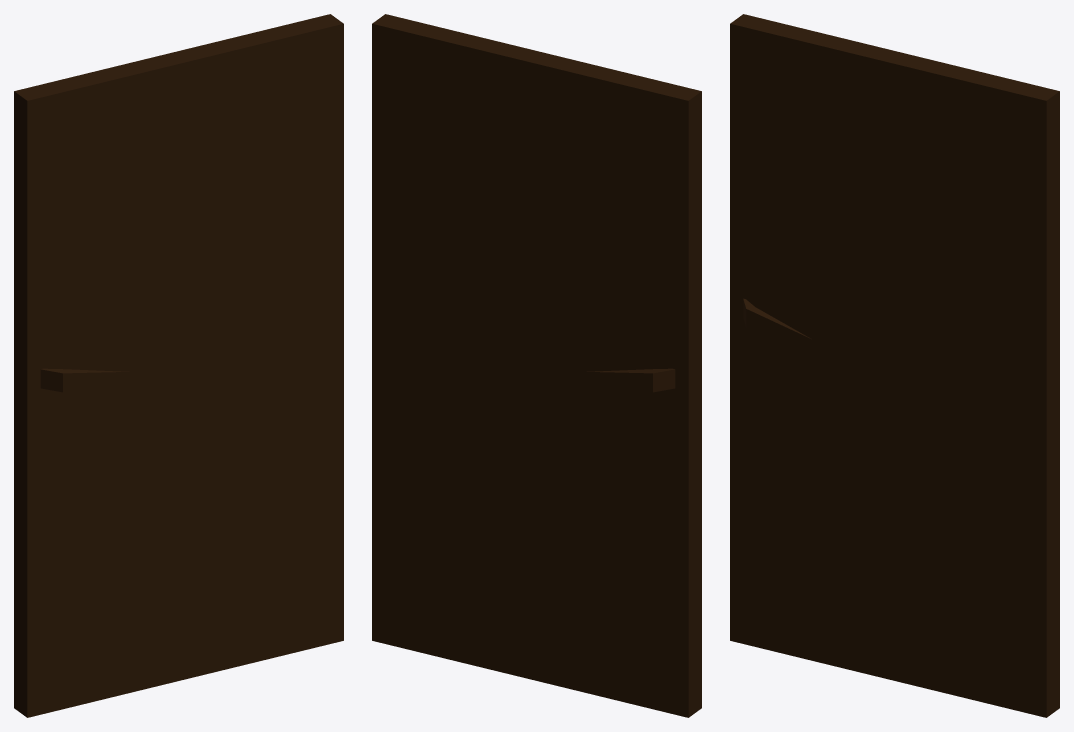
The model's file is door.FBX.
3 renders of one model, left to right at view 1: azimuth 30°, elevation 25°; view 2: azimuth 150°, elevation 25°; view 3: azimuth 330°, elevation 25°, orthographic.
Parts seen in each view (by area): view 1: Box001; view 2: Box001; view 3: Box001.
Boxes of the visible parts, x1,y1,x2,y2 form: Box001: (14,14,343,717); Box001: (372,14,701,717); Box001: (730,14,1059,717).
Size of the model in its own units: 1.1 by 0.1969 by 2.05.
